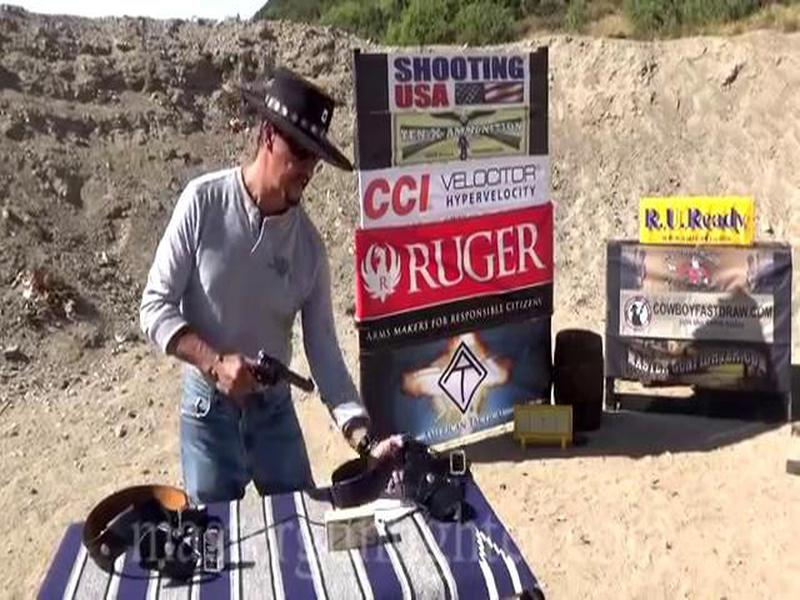Revolver: (229, 340, 325, 423)
